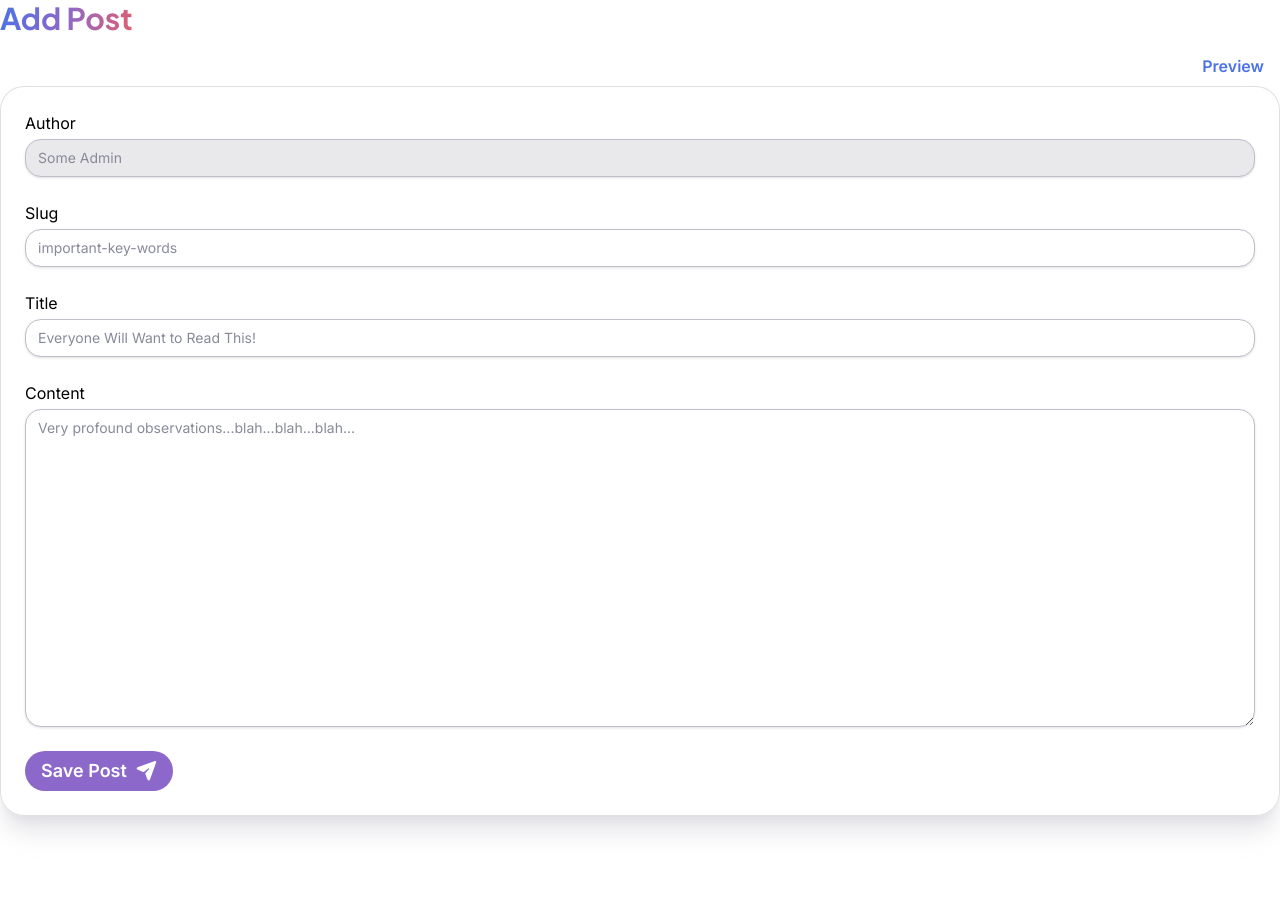
Scenario: renders preview modal after button click
This screenshot has width=1280, height=900.
Click the button "Preview" at (1233, 66), box [1186,46,1279,86]
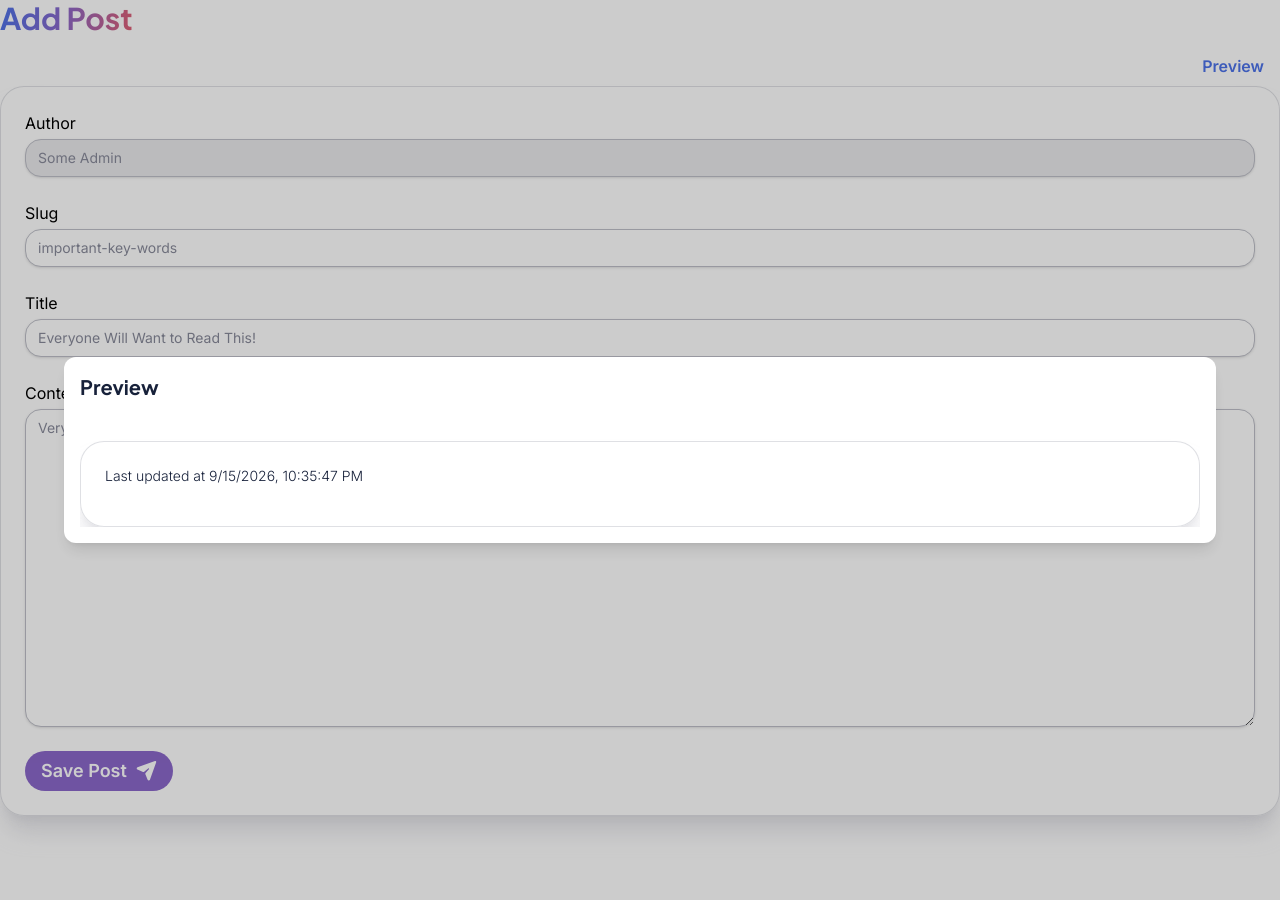
Now the dialog is shown, box [64,357,1216,543]
